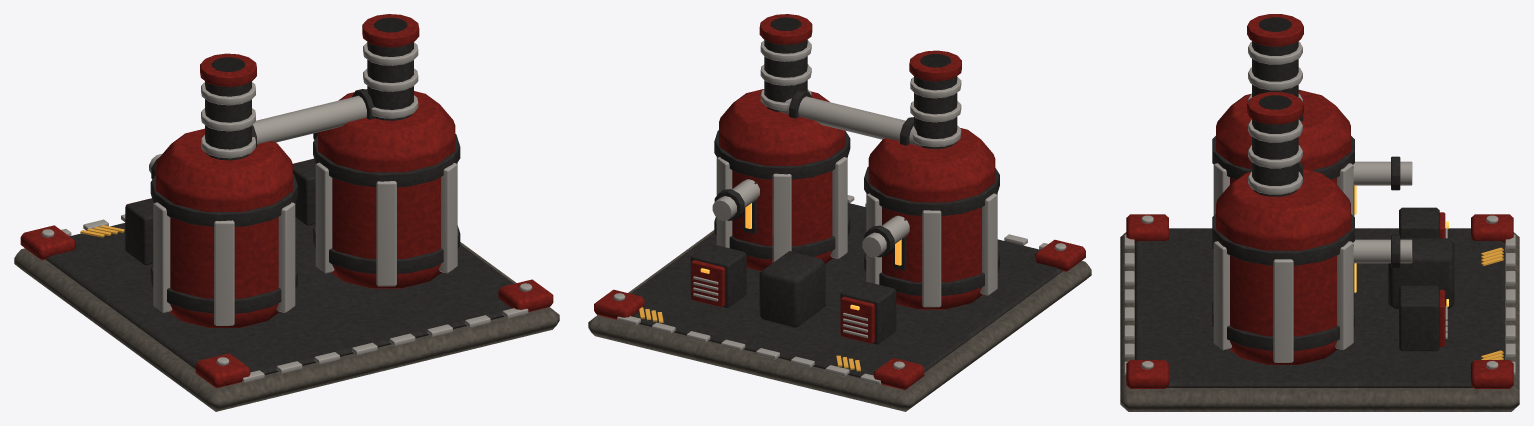
Rendered from kharn_chaudiere_de_guerre.gltf.
3 views of the same model, side by side, from view 1: azimuth 30°, elevation 25°; view 2: azimuth 150°, elevation 25°; view 3: azimuth 270°, elevation 25° (orthographic). The views are drawn at different scales.
Visible parts, largest first — view 1: Root.001_Geometry; view 2: Root.001_Geometry; view 3: Root.001_Geometry.
Boxes of the visible parts, x1=… form: Root.001_Geometry: x1=14, y1=14, x2=559, y2=411; Root.001_Geometry: x1=588, y1=14, x2=1091, y2=411; Root.001_Geometry: x1=1120, y1=14, x2=1519, y2=411.
Size of the model in its own units: 3.94 by 2.92 by 3.94.
Materials: 7 (4 with a texture image).
